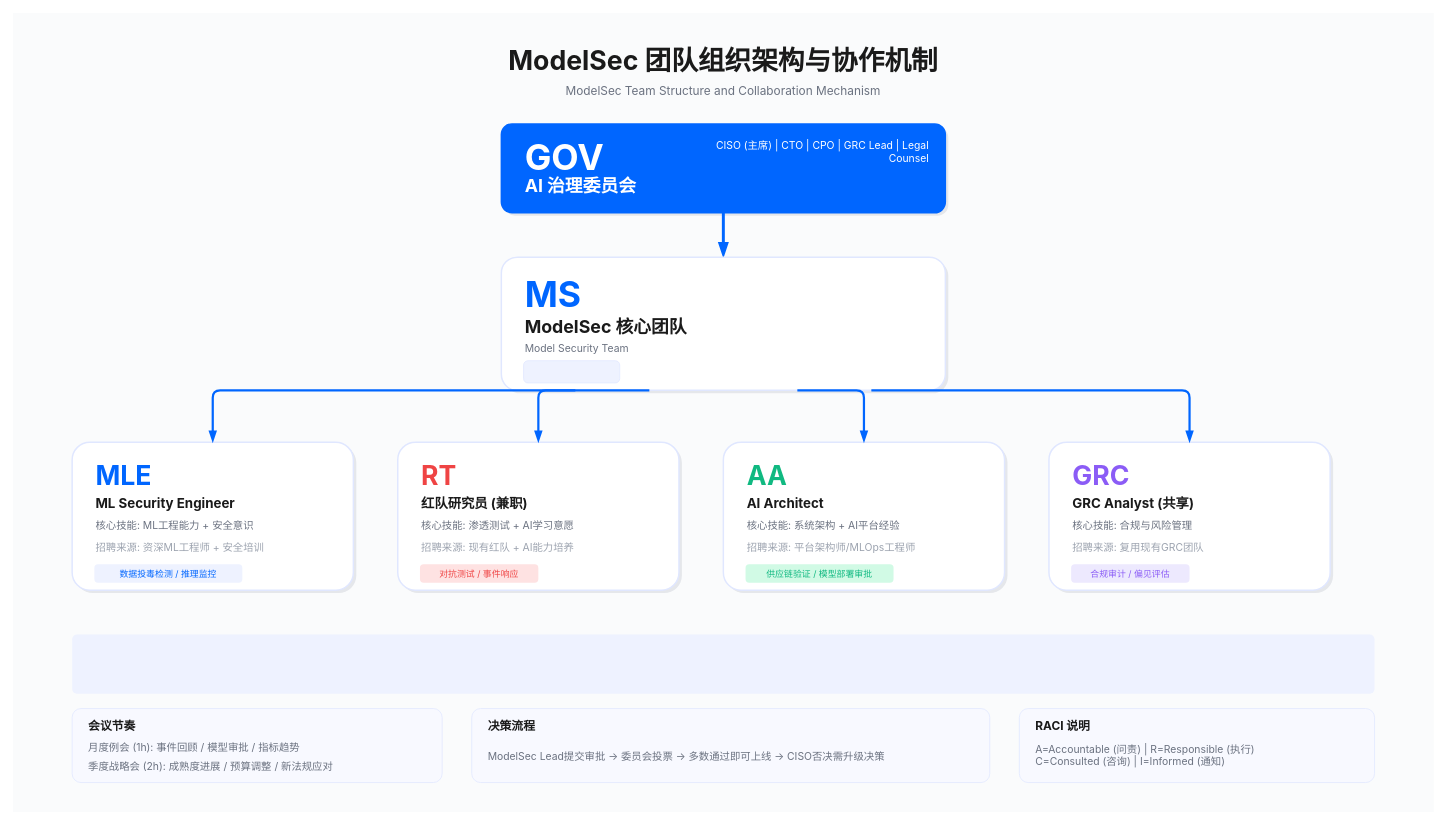
Image size: 1446x824. Some labels were removed from this diagram. Here are the shapes that lost their labels. From the top down, the centre of each, then its label:
At (x=571, y=371): "ModelSec Lead".
At (x=723, y=663): "核心原则: ① T型人才组合,团队整体覆盖关键能力 ② ModelSec Lead需跨团队协调权限 ③ 初期可从兼职或虚拟团队起步".
